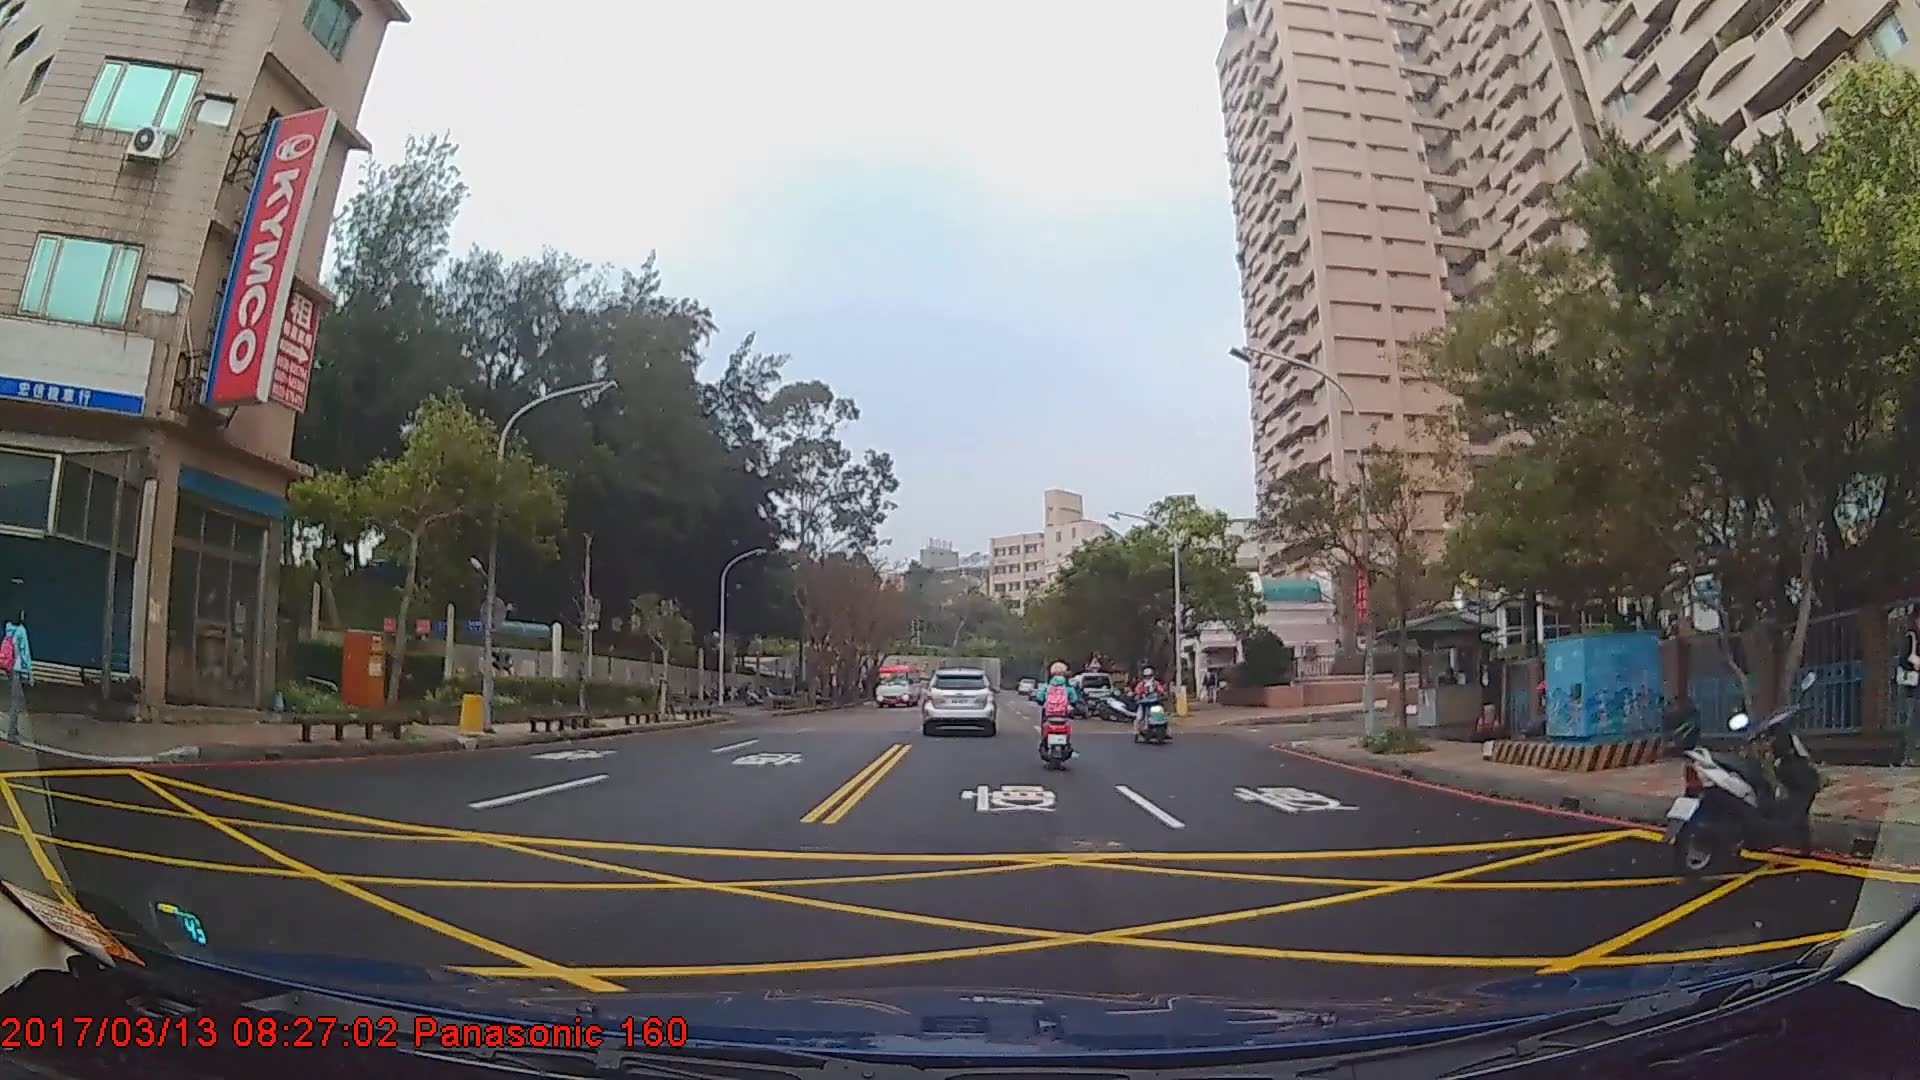pedestrian: (1, 599, 39, 744)
rider: (1034, 659, 1080, 775), (1132, 669, 1171, 746)
vehicle: (920, 664, 995, 736), (872, 661, 926, 708), (1065, 671, 1114, 717)
